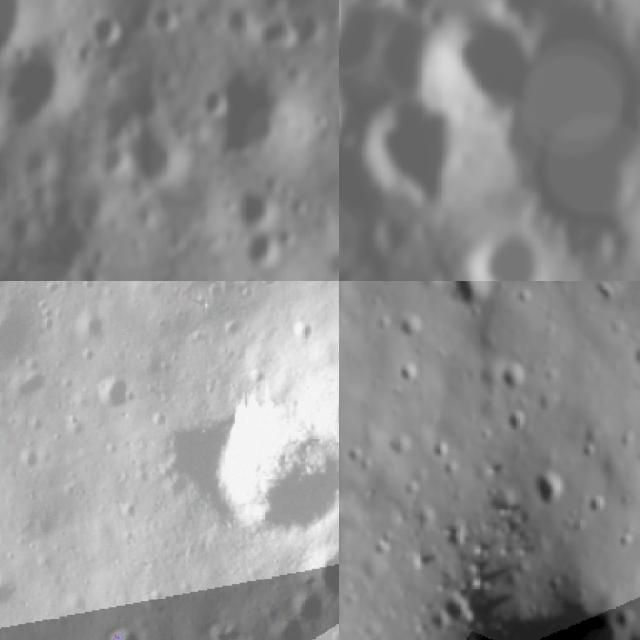crater: (191, 404, 339, 557), (402, 0, 548, 138), (342, 80, 478, 210), (459, 218, 553, 281), (0, 302, 40, 370), (90, 370, 140, 418), (307, 541, 339, 603), (285, 585, 329, 629), (240, 220, 276, 270), (97, 614, 151, 640), (449, 281, 497, 310), (88, 9, 125, 46), (390, 0, 451, 22), (394, 308, 429, 346), (497, 358, 535, 392), (228, 189, 268, 221), (418, 0, 458, 32), (260, 16, 296, 51), (534, 474, 568, 511), (202, 84, 234, 118), (0, 570, 23, 617), (148, 2, 180, 34), (94, 139, 128, 166), (587, 281, 623, 306), (216, 626, 276, 640), (432, 440, 461, 467), (216, 6, 248, 30), (388, 432, 416, 459), (513, 285, 539, 314), (506, 410, 537, 434), (397, 360, 428, 381), (585, 492, 610, 516), (578, 434, 598, 464), (380, 10, 395, 43), (633, 339, 640, 379)
